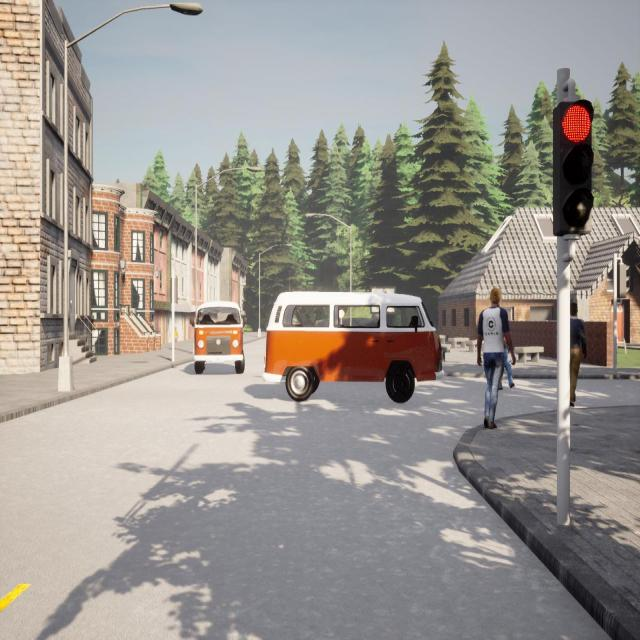Pedestrian: (477, 287, 515, 429), (570, 302, 587, 409), (174, 327, 179, 350)
Traffic_Signs: (339, 309, 345, 318)
Vehicle: (263, 291, 443, 402), (192, 302, 244, 374)
traffic_light: (553, 100, 593, 234), (617, 263, 630, 299), (171, 278, 178, 303)
